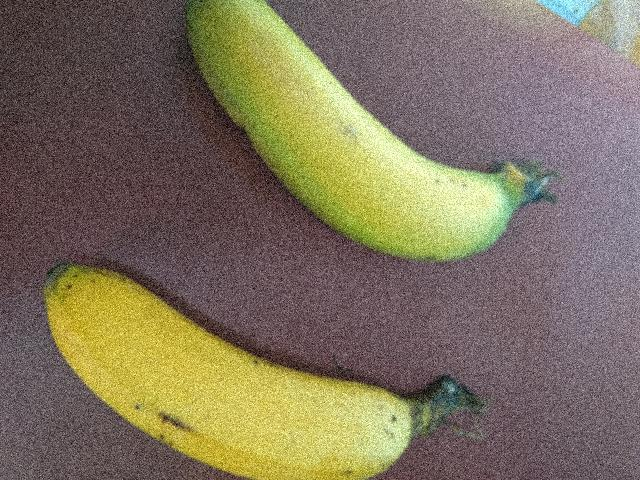freshripe: (12, 261, 474, 479), (164, 0, 497, 260)
